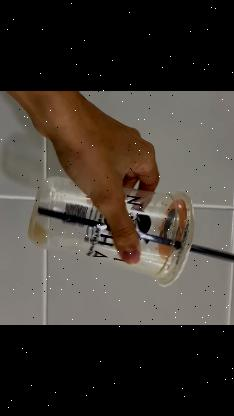Others: (27, 177, 230, 287)
